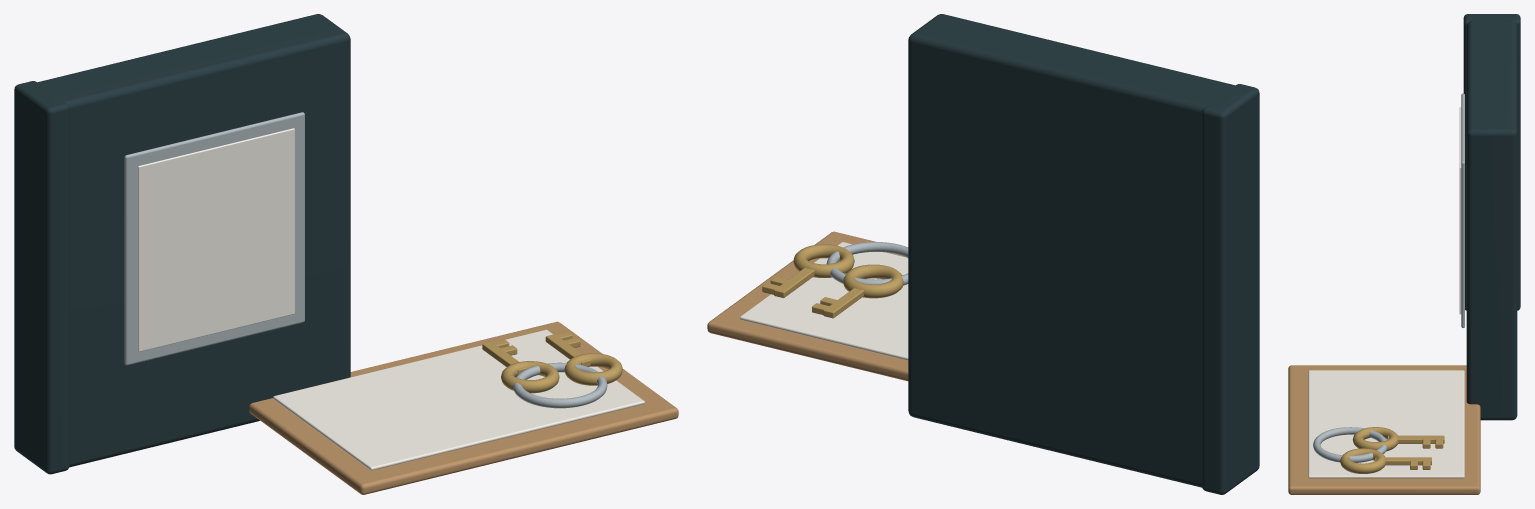
File: hero-legacy.glb
3 renders of one model, left to right at view 1: azimuth 30°, elevation 25°; view 2: azimuth 150°, elevation 25°; view 3: azimuth 270°, elevation 25°, orthographic. The views are drawn at different scales.
Visible parts, largest first — view 1: Cloth family album, Blank cream album inset, Unprinted document, Album spine, Document folder, Album inset frame, House key ring, Key bow.001, Key bow; view 2: Cloth family album, Album spine, Unprinted document, Document folder, Key bow, Key bow.001, House key ring; view 3: Cloth family album, Unprinted document, Document folder, Album spine, House key ring, Album inset frame, Key bow.001, Key bow, Blank cream album inset, Key shaft, Key shaft.001.
Boxes of the visible parts, box(x1,y1,x2,y2) form: Cloth family album: box(27, 14, 350, 467); Blank cream album inset: box(138, 128, 294, 351); Unprinted document: box(273, 329, 644, 470); Album spine: box(14, 81, 69, 474); Document folder: box(249, 321, 678, 494); Album inset frame: box(124, 112, 304, 365); House key ring: box(513, 362, 607, 408); Key bow.001: box(564, 353, 622, 385); Key bow: box(501, 361, 559, 393); Cloth family album: box(908, 14, 1243, 487); Album spine: box(1202, 84, 1259, 494); Unprinted document: box(740, 242, 908, 360); Document folder: box(707, 231, 908, 381); Key bow: box(843, 264, 903, 298); Key bow.001: box(793, 244, 854, 277); House key ring: box(826, 242, 908, 285); Cloth family album: box(1466, 15, 1517, 420); Unprinted document: box(1308, 370, 1464, 478); Document folder: box(1288, 365, 1480, 494); Album spine: box(1463, 14, 1520, 310); House key ring: box(1313, 427, 1387, 462); Album inset frame: box(1461, 93, 1464, 327); Key bow.001: box(1340, 448, 1385, 473); Key bow: box(1352, 427, 1398, 451); Blank cream album inset: box(1459, 107, 1461, 314); Key shaft: box(1387, 435, 1444, 443); Key shaft.001: box(1375, 457, 1431, 465).
Bounding box in the file's own units: 2.63 × 1.77 × 1.28.
